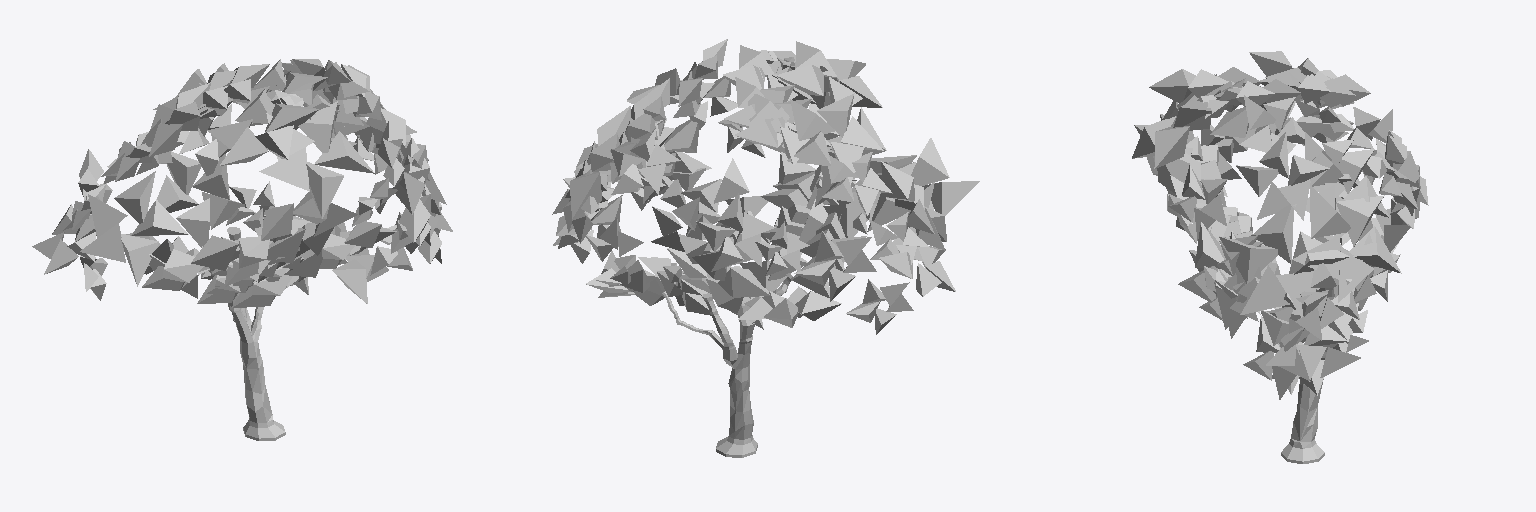
File: Cherry Tree (Lowmance Competition) Option 2 Export Sketch fab.obj
3 views of the same model, side by side, from view 1: azimuth 30°, elevation 25°; view 2: azimuth 150°, elevation 25°; view 3: azimuth 270°, elevation 25° (orthographic).
Parts seen in each view (by area): view 1: LEaf.008_Plane.002, Tree_Base_Circle.002; view 2: LEaf.008_Plane.002, Tree_Base_Circle.002; view 3: LEaf.008_Plane.002, Tree_Base_Circle.002.
Part boxes in pixels (bbox=[...]): LEaf.008_Plane.002: bbox=[32, 59, 452, 307]; Tree_Base_Circle.002: bbox=[208, 227, 293, 440]; LEaf.008_Plane.002: bbox=[552, 39, 979, 334]; Tree_Base_Circle.002: bbox=[662, 266, 792, 457]; LEaf.008_Plane.002: bbox=[1132, 51, 1428, 399]; Tree_Base_Circle.002: bbox=[1281, 288, 1334, 463].
Size of the model in its own units: 8.3 by 7.5 by 5.33.